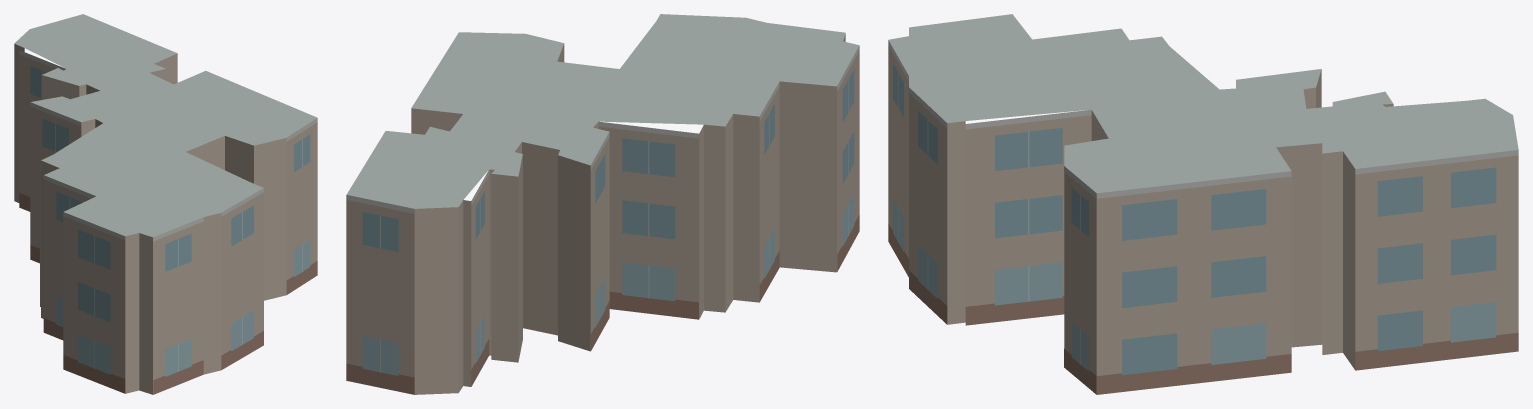
File: survey-upis-32469981.glb
3 renders of one model, left to right at view 1: azimuth 30°, elevation 25°; view 2: azimuth 150°, elevation 25°; view 3: azimuth 270°, elevation 25°, orthographic. The views are drawn at different scales.
Visible parts, largest first — view 1: survey-upis-32469981.tmp; view 2: survey-upis-32469981.tmp; view 3: survey-upis-32469981.tmp.
Boxes of the visible parts, left/top/right/bottom form: survey-upis-32469981.tmp: left=14, top=14, right=317, bottom=394; survey-upis-32469981.tmp: left=346, top=14, right=859, bottom=394; survey-upis-32469981.tmp: left=888, top=14, right=1518, bottom=394.
Size of the model in its own units: 17.23 by 9.02 by 25.58.
